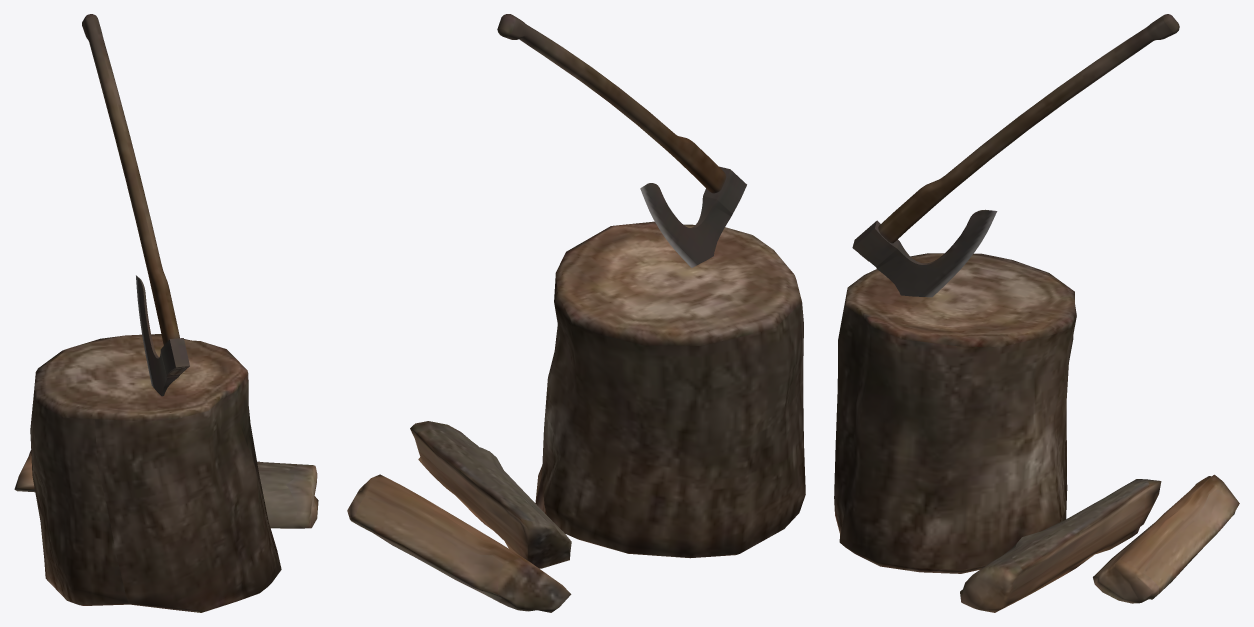
The model's file is SM_Stump_e4431b.glb.
3 renders of one model, left to right at view 1: azimuth 30°, elevation 25°; view 2: azimuth 150°, elevation 25°; view 3: azimuth 270°, elevation 25°, orthographic. The views are drawn at different scales.
Bounding box in the file's own units: 0.9038 × 1.4 × 0.9729.
1 material, 1 textured.
